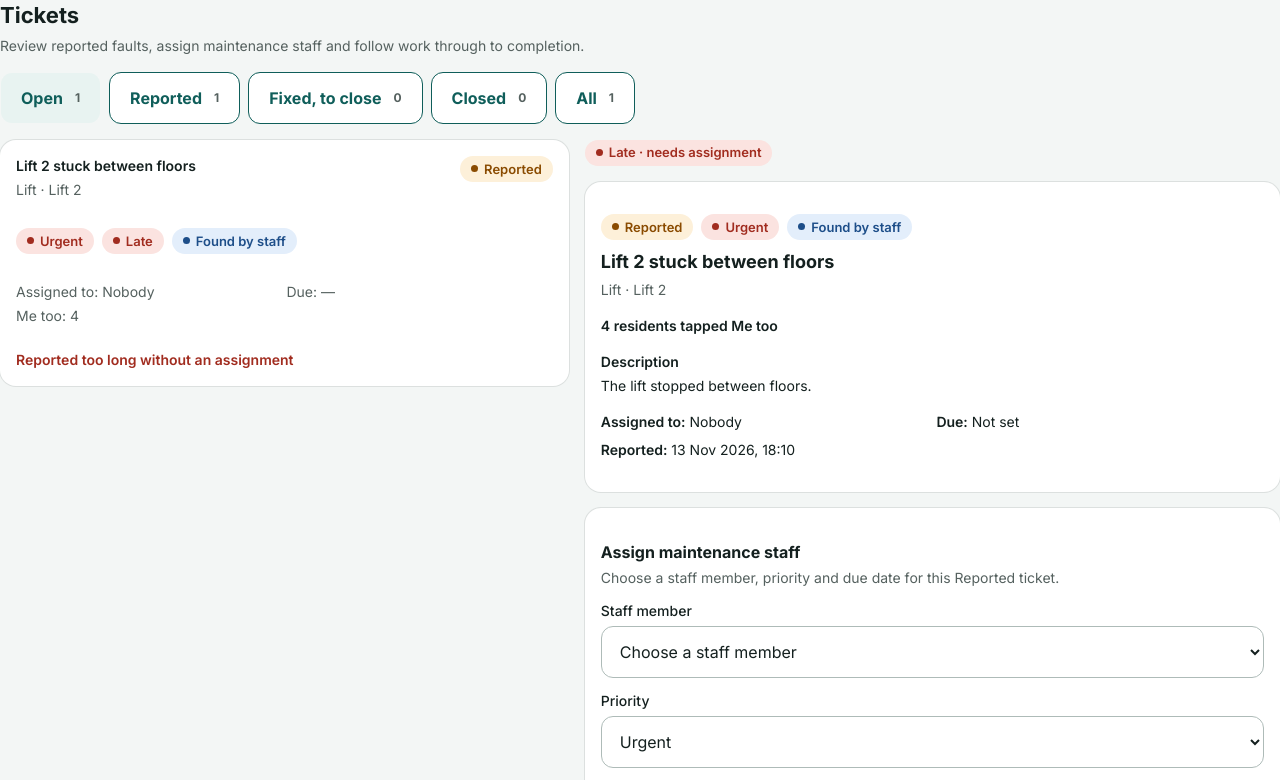
Scenario: ManagerTickets › assigns a Reported ticket with its selected staff, priority, due date and instructions
The image size is (1280, 780).
Expected: the heading "Assign maintenance staff" is shown, [601,542,800,562]
Select "Karim Rahman" in the dropdown labelled "Staff member" at [932, 652], box [601,626,1264,678]
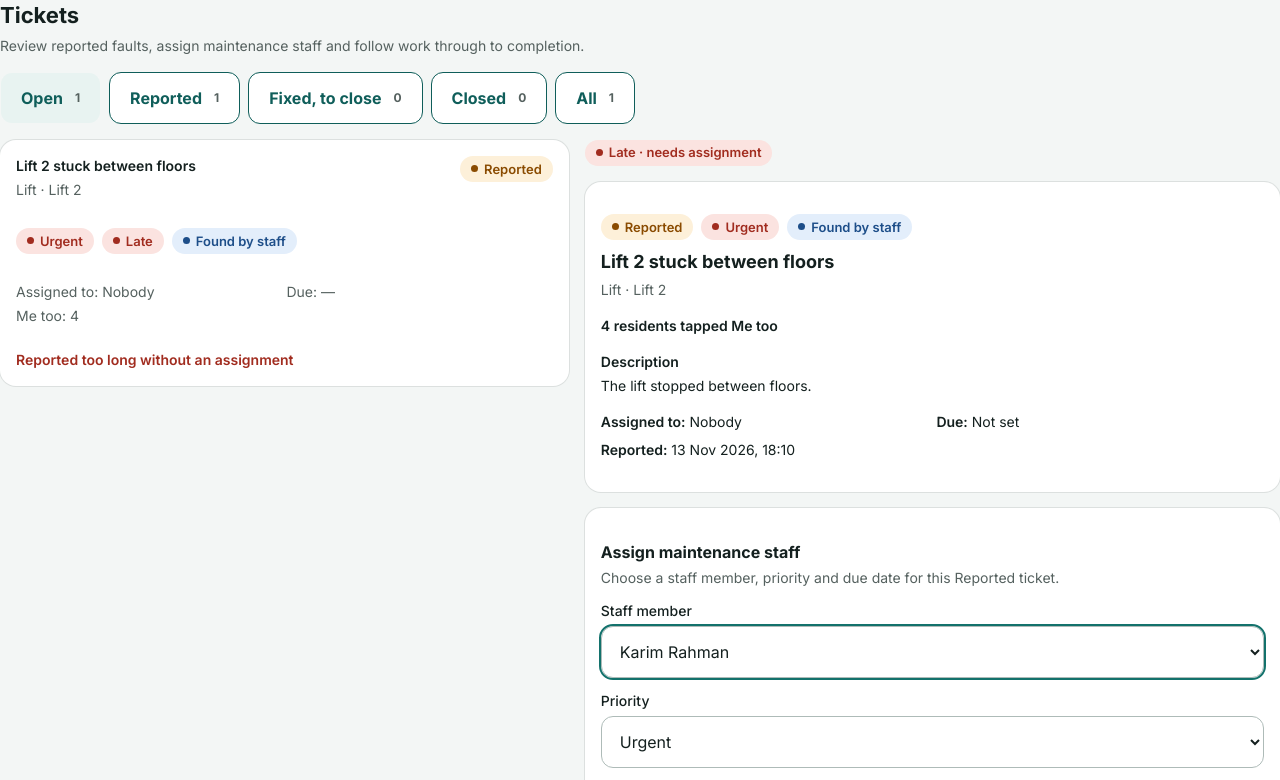
Select "Urgent" in the dropdown labelled "Priority" at [932, 742], box [601,716,1264,768]
(page scrolled)
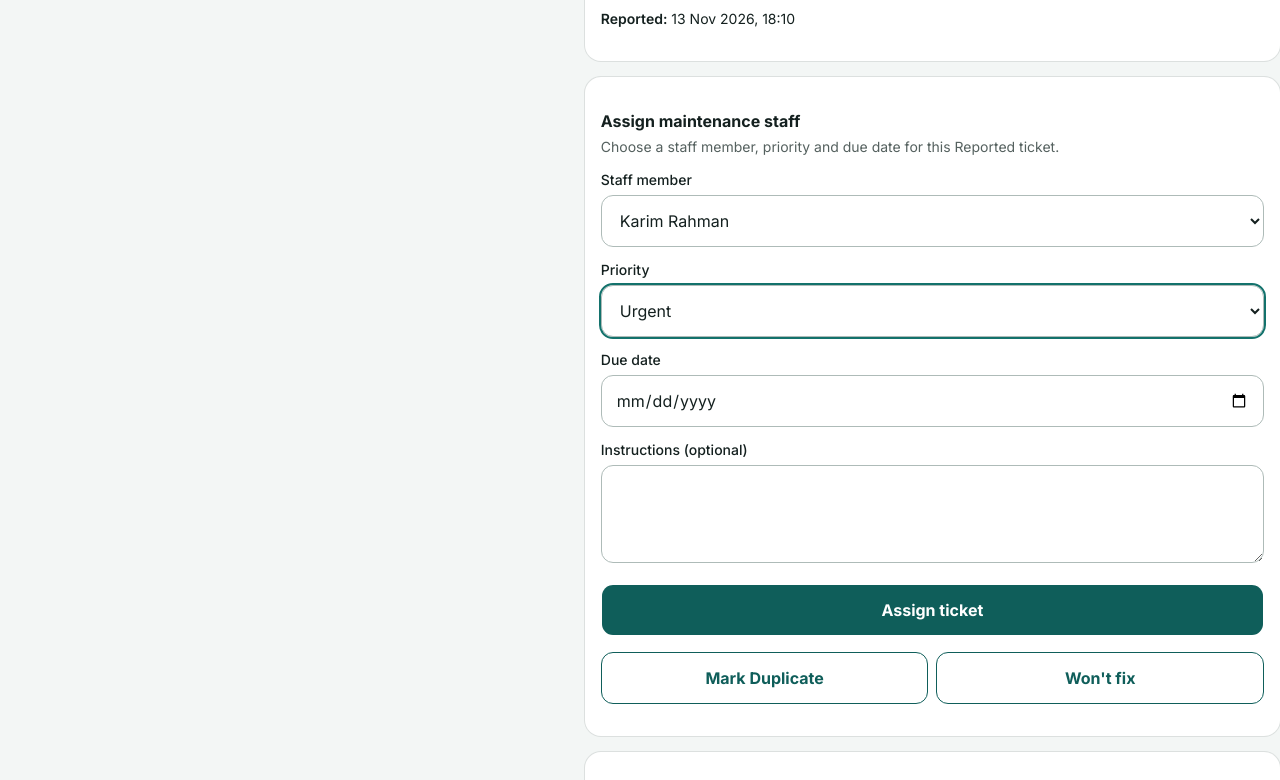
Type "2026-12-01" into the date field labelled "Due date" at [932, 401], box [601,375,1264,427]
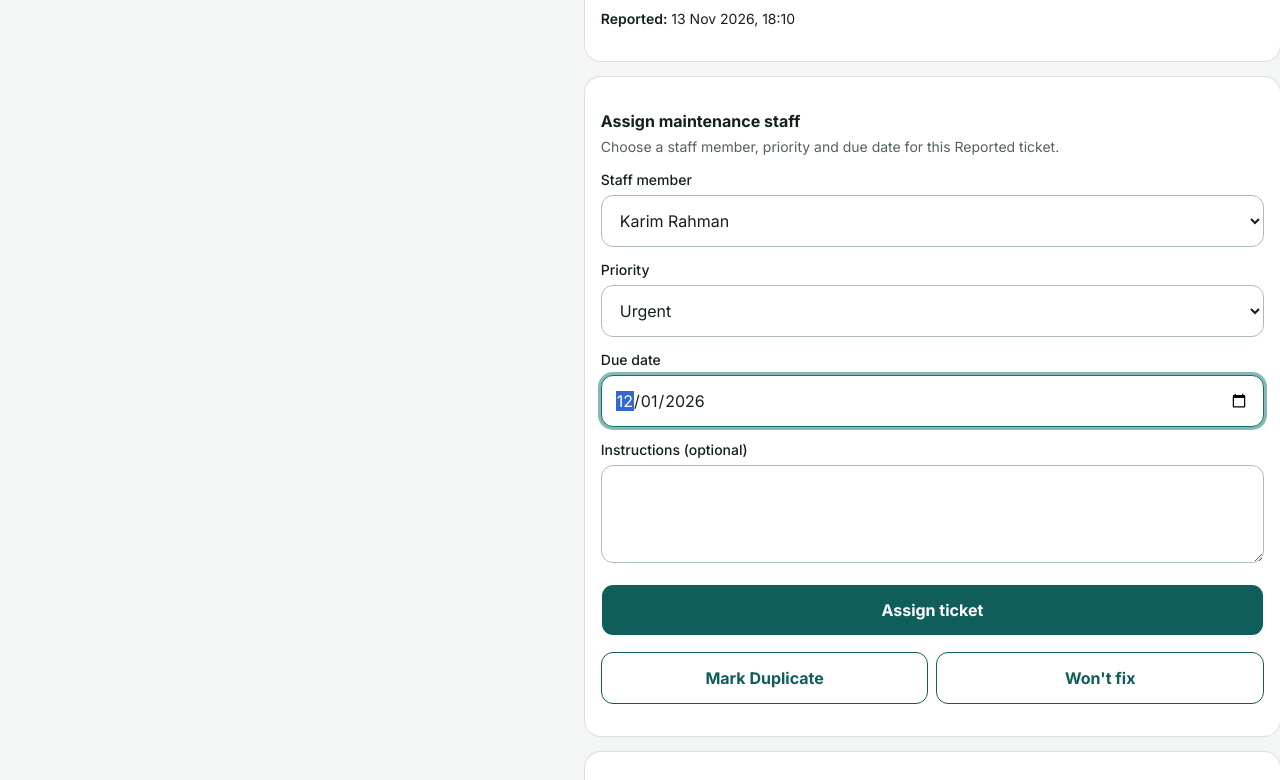
Type "Check the lift motor." into the text box labelled "Instructions (optional)" at [932, 514], box [601,465,1264,563]
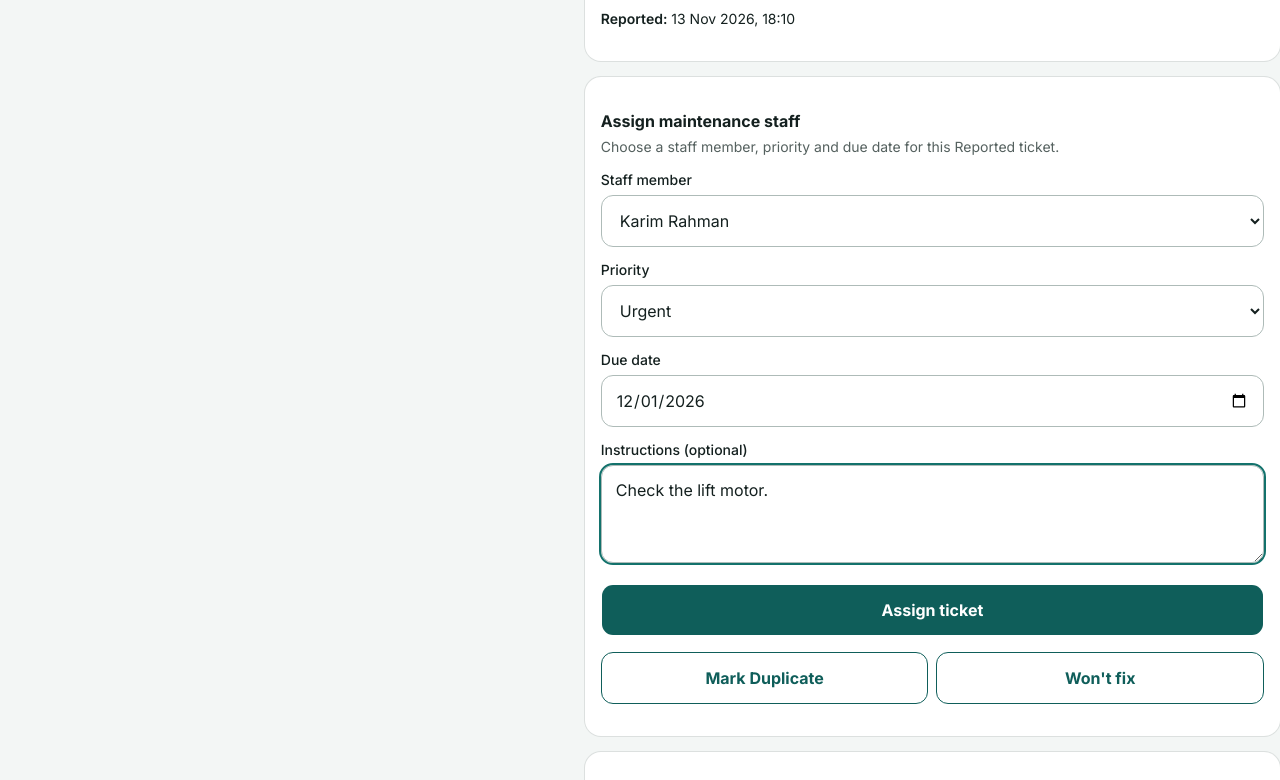
Click the button "Assign ticket" at [932, 610], box [601,584,1264,636]
(page scrolled)
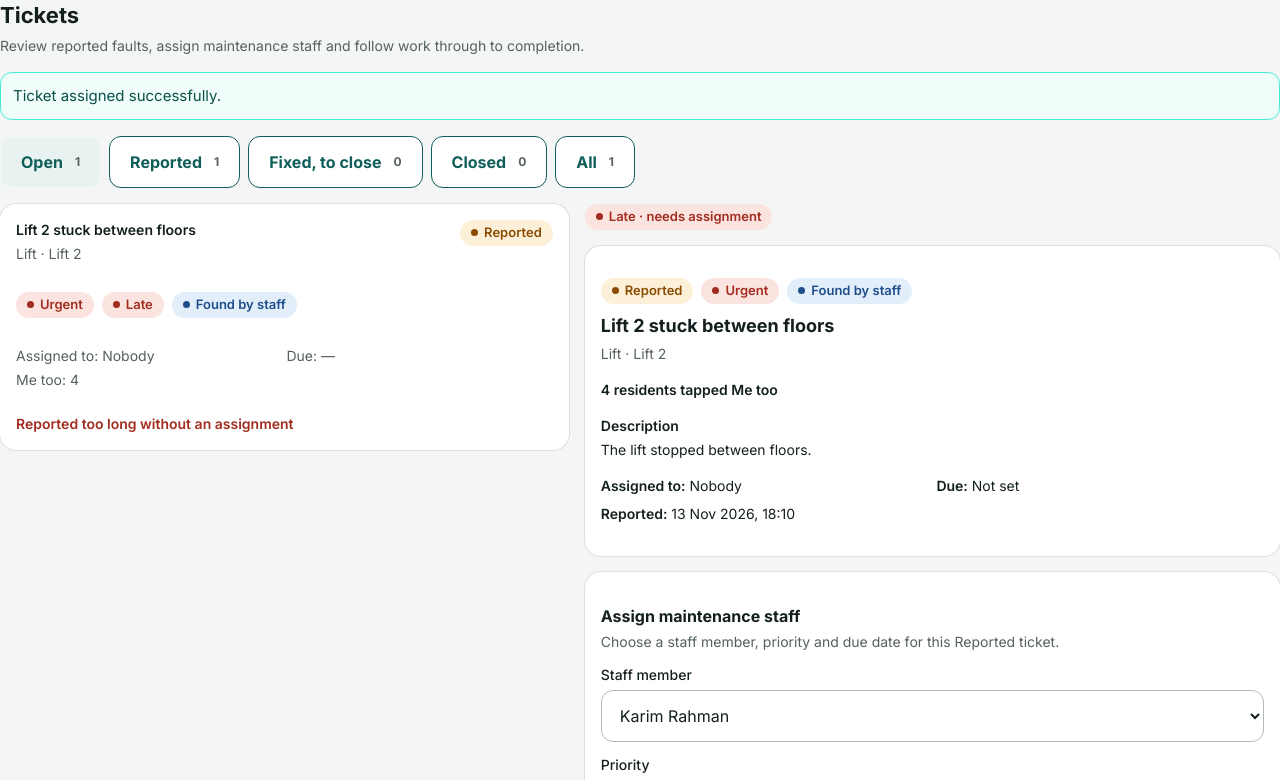
Expected: the message reads "Ticket assigned successfully.", [13,86,221,105]
